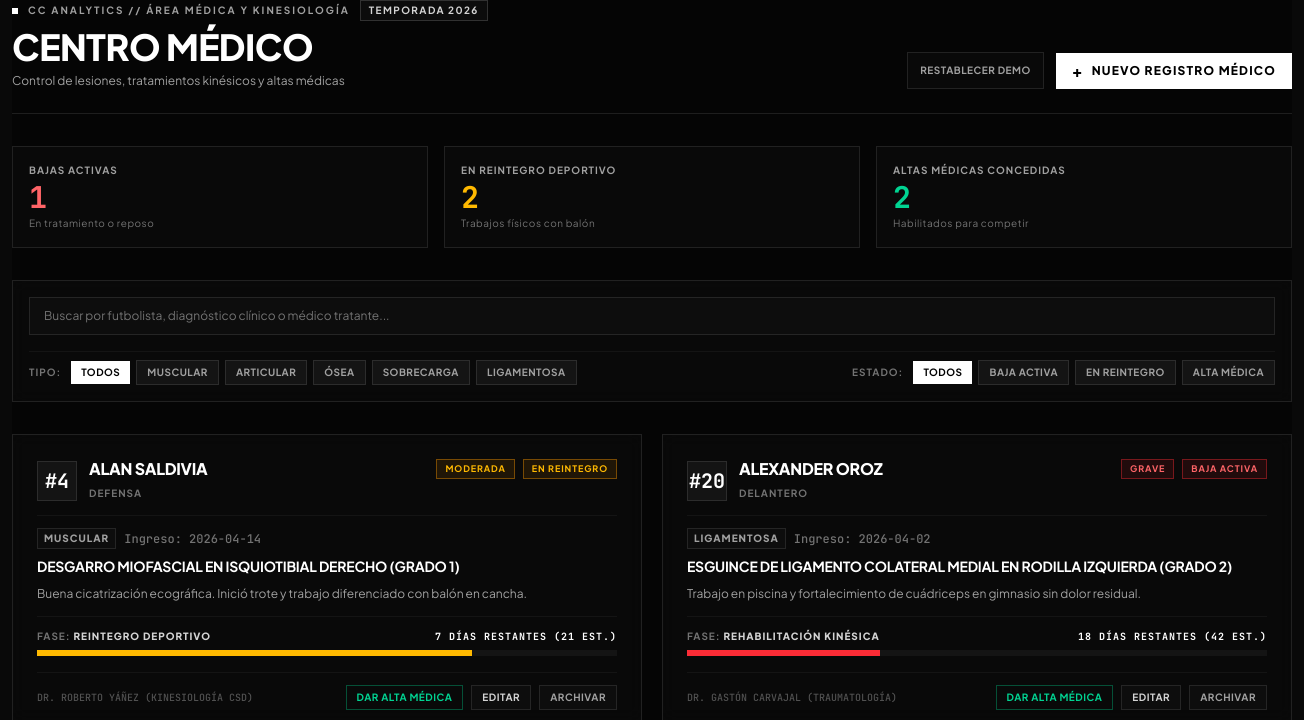
Test: Módulo de Centro Médico y Control de Lesiones (Pantalla 7) › filtra fichas médicas correctamente al seleccionar una categoría específica
Click the button "Muscular".
click(178, 372)  # box [136,360,219,385]
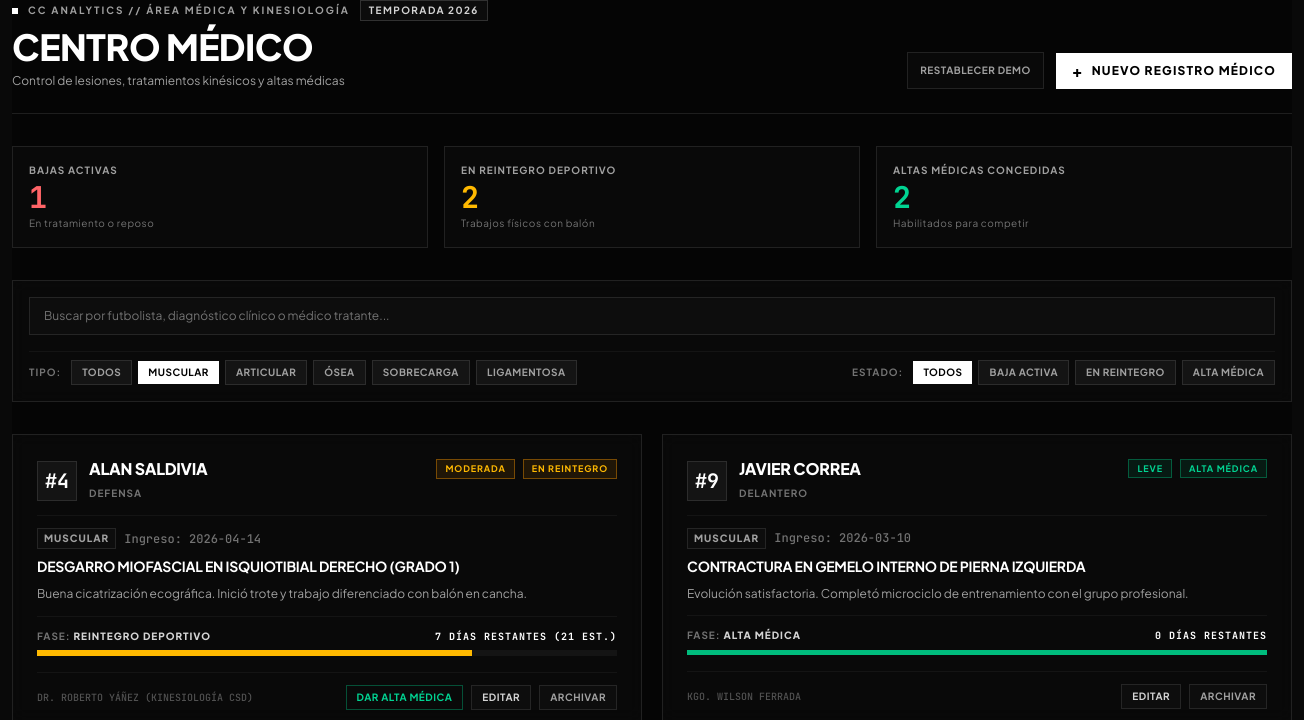
expect the heading "Alan Saldivia" is shown: met, box [89,459,208,479]
expect the heading "Alexander Oroz" is gone: met
